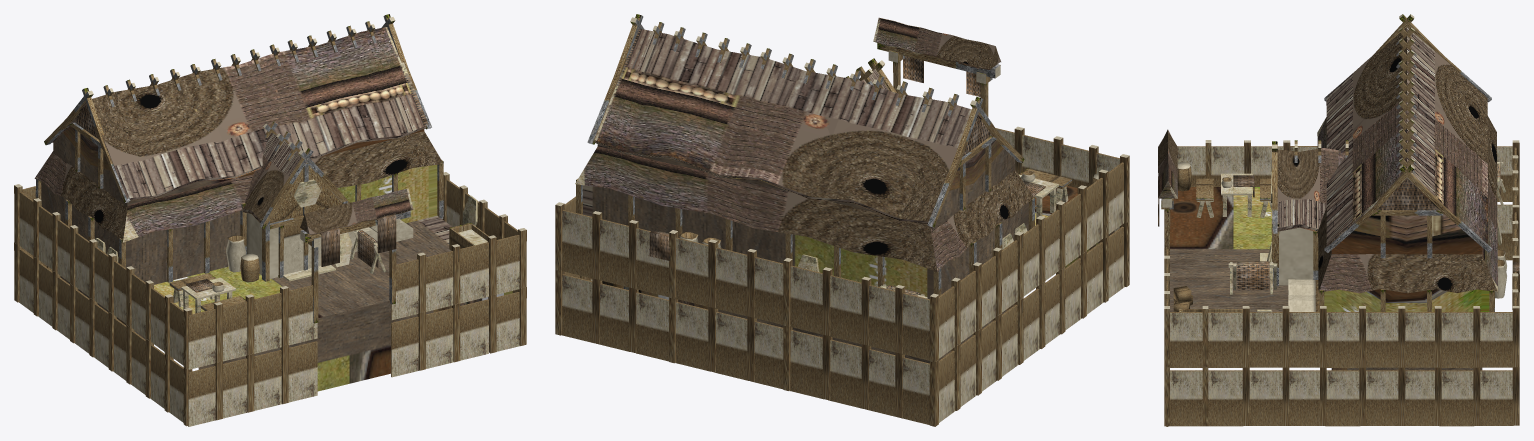
3 renders of one model, left to right at view 1: azimuth 30°, elevation 25°; view 2: azimuth 150°, elevation 25°; view 3: azimuth 270°, elevation 25°, orthographic. The views are drawn at different scales.
Visible parts, largest first — view 1: cc; view 2: cc; view 3: cc.
Part boxes in pixels (left/top/right/bottom): cc: left=14, top=14, right=526, bottom=426; cc: left=555, top=14, right=1129, bottom=426; cc: left=1158, top=14, right=1519, bottom=426.
Bounding box in the file's own units: 30.38 × 27.51 × 21.17.
